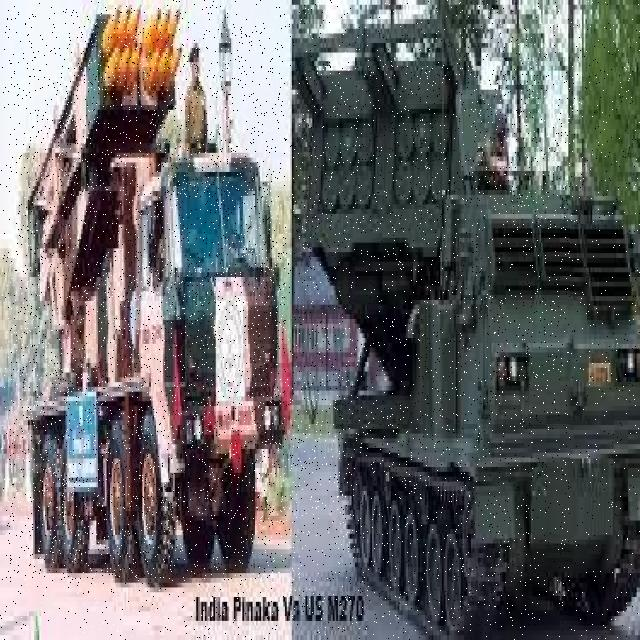MIL_MBT: (8, 7, 286, 585), (290, 62, 570, 620)
